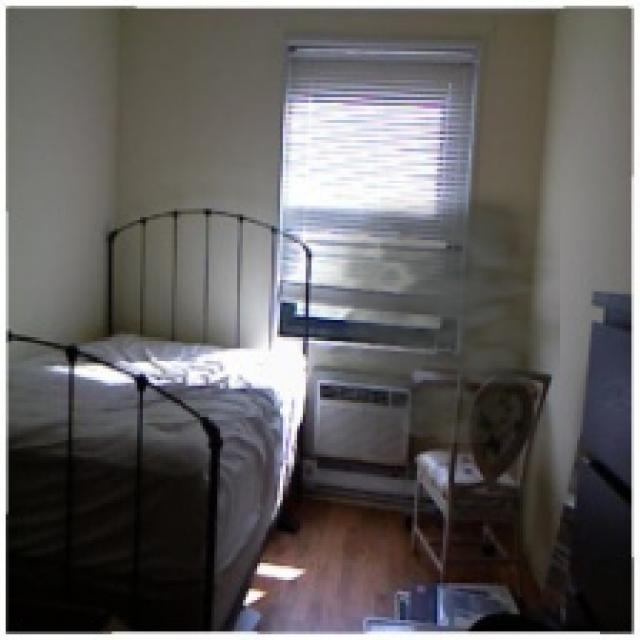smoke: (294, 186, 560, 443)
